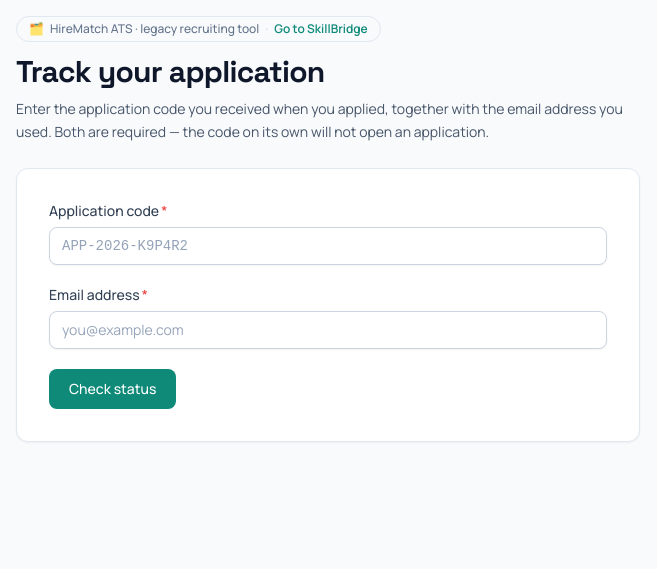
Scenario: TrackApplicationPage › explains a failed lookup without hinting whether the code exists
Step 1. Type "APP-2026-NOPE22" into the field labelled "Application code*" → (328, 246), box x1=49 y1=226 x2=607 y2=264
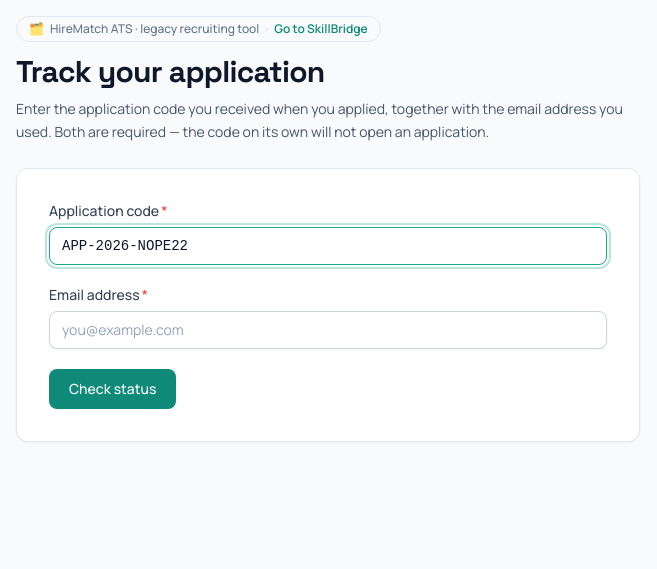
Step 2. Type "someone@example.com" into the field labelled "Email address*" → (328, 330), box x1=49 y1=310 x2=607 y2=348
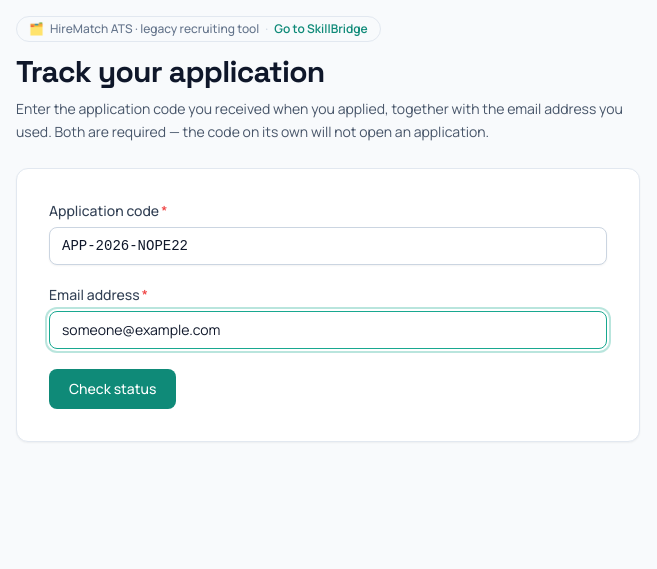
Step 3. Click the button "Check status" → (113, 388), box x1=49 y1=368 x2=176 y2=408
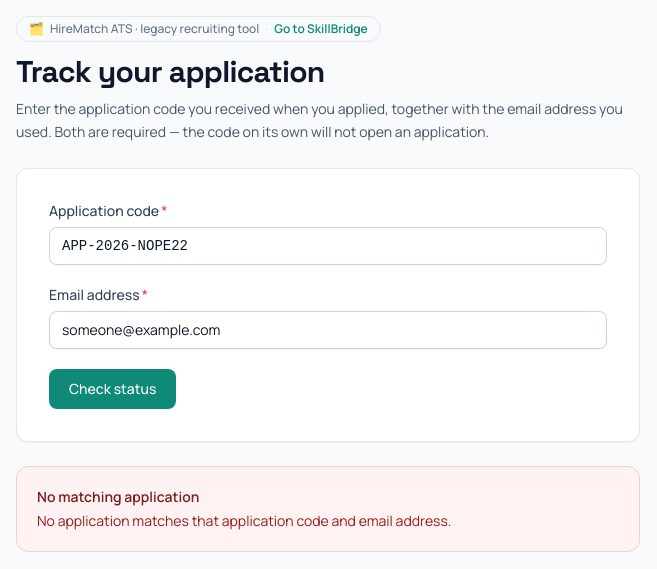
Expected: the message shows "No application matches", x1=37 y1=510 x2=451 y2=530
